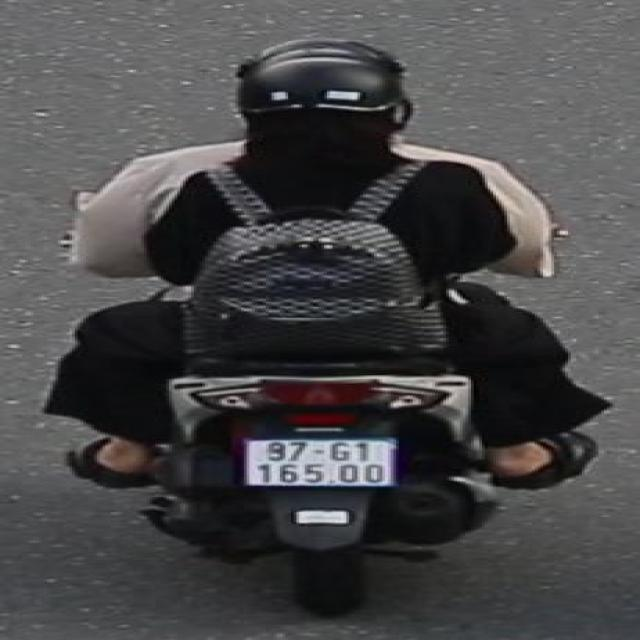LP: (238, 434, 408, 494)
helmet: (222, 36, 421, 152)
